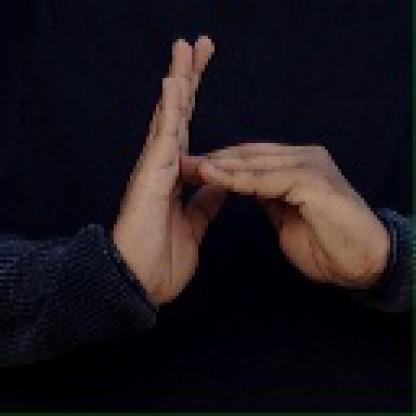Z: (121, 27, 370, 323)
